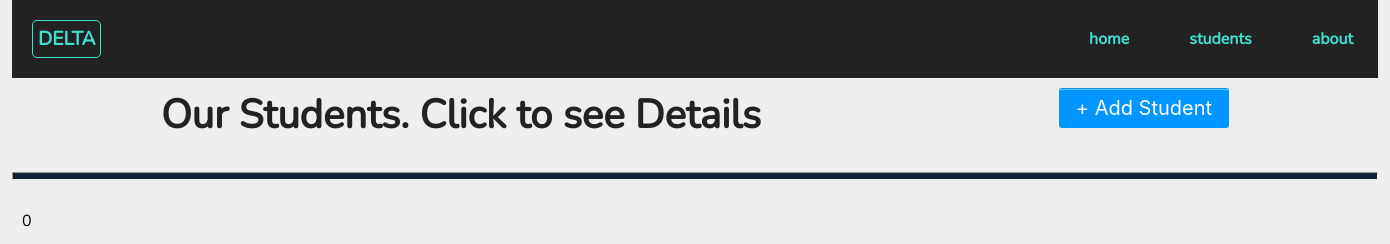
Scenario: App pages navigation › About
The width and height of the screenshot is (1390, 244).
Click the link "about". click: (1332, 39)
box: [1312,28,1353,50]
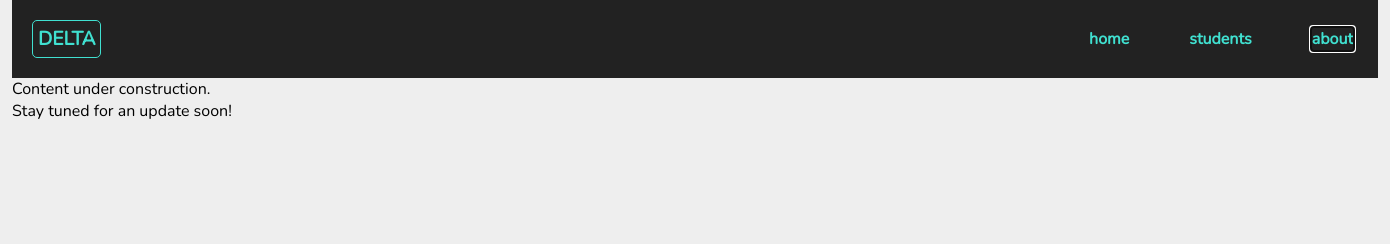
Check: the element with test id "about-comp" is shown, box [12,78,1378,122]
